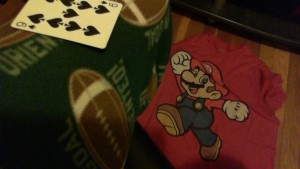NineOfSpades: (10, 1, 124, 49)
